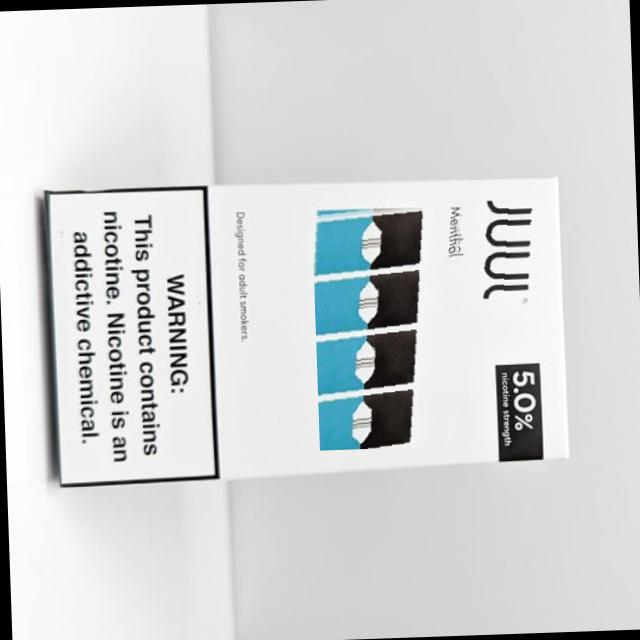Hazard: (310, 198, 470, 450), (476, 193, 553, 313)
